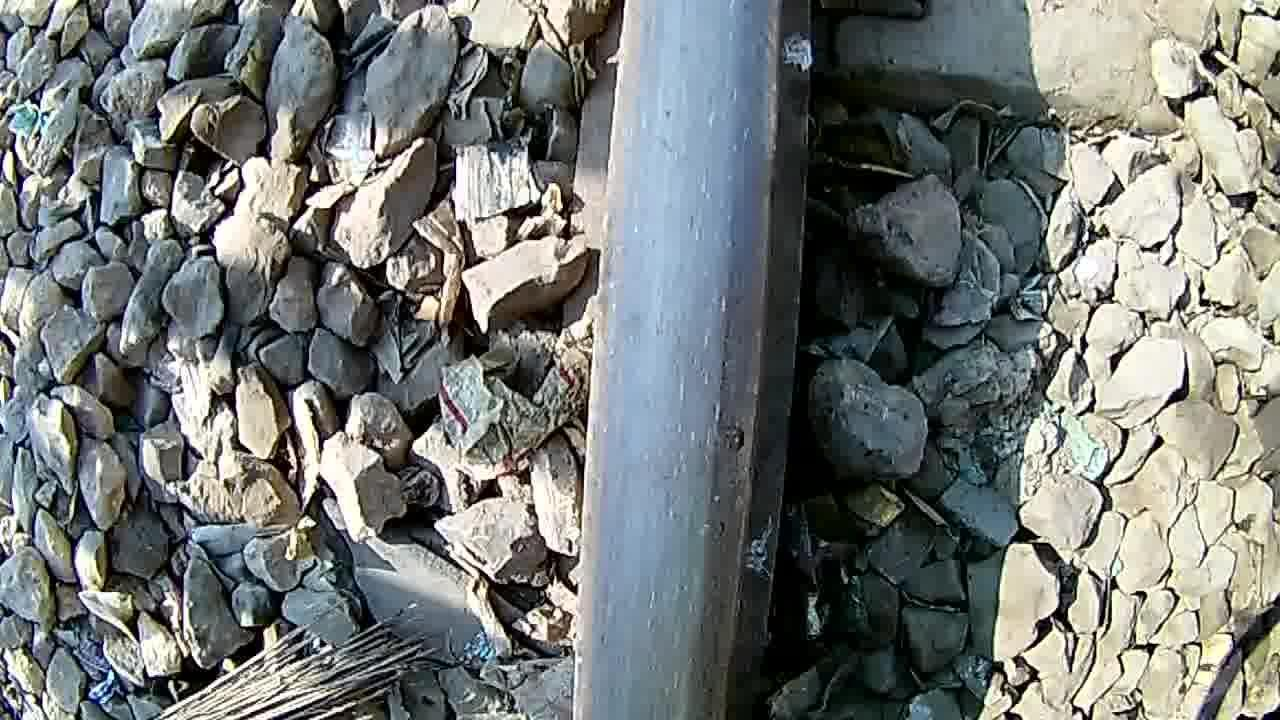crack: (592, 0, 788, 720)
